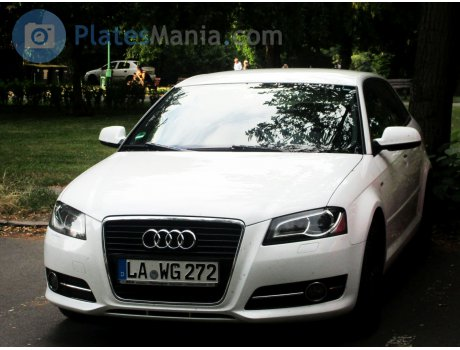License Plates: (128, 260, 216, 279)
